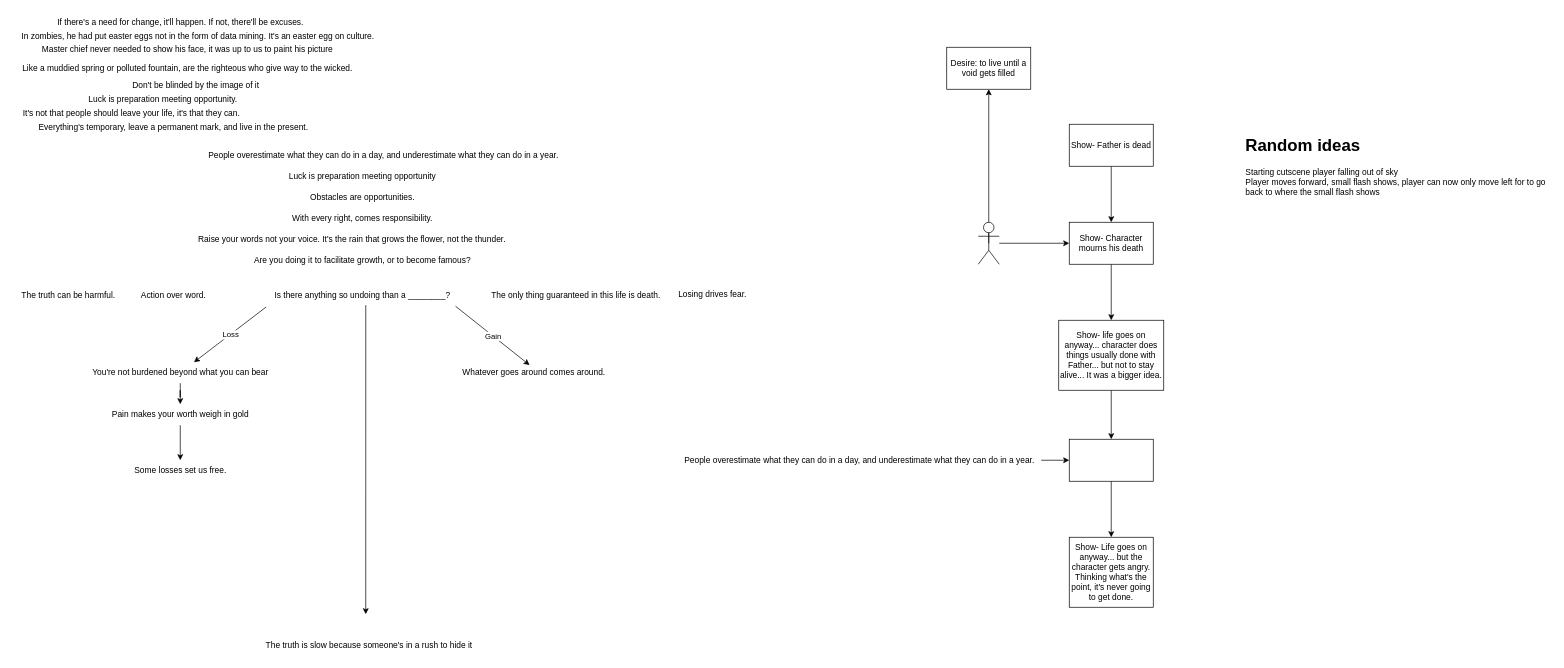
Image size: 1564x668. Some labels were removed from this diagram. The centre of each missing label's shape, as x and y in pixels:
Actor: (x=988, y=243)
Show- Character shows blueprint to a mansion that they were both building: (x=1111, y=460)
